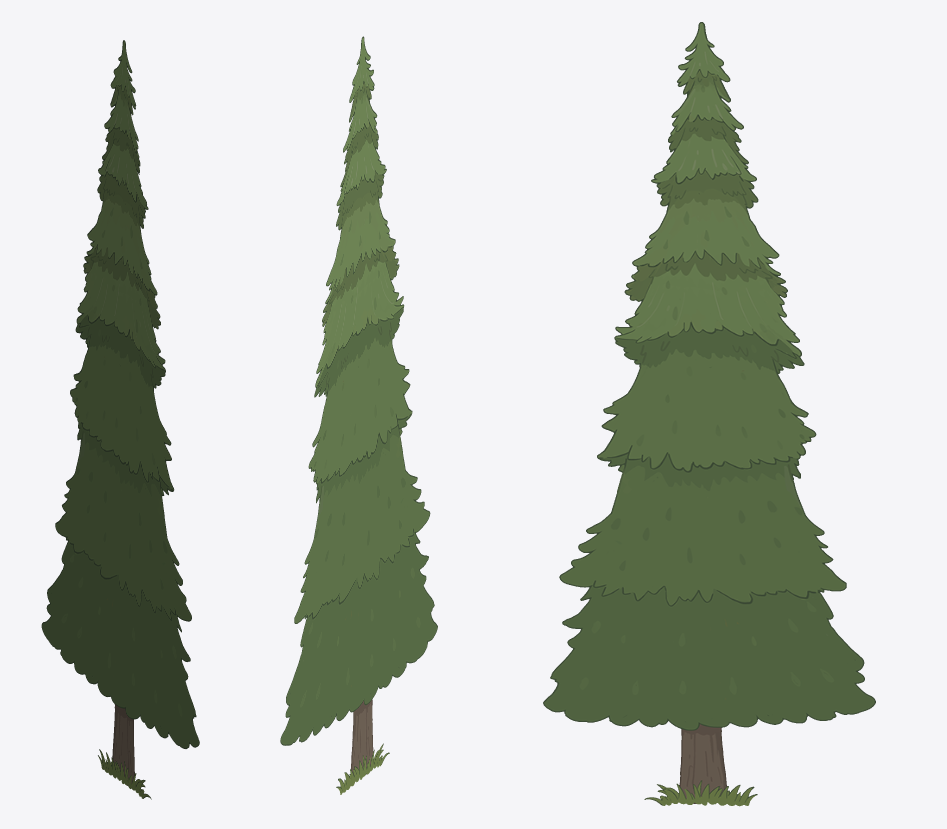
Rendered from Mesh_Common_Tree_b.fbx.
3 views of the same model, side by side, from view 1: azimuth 30°, elevation 25°; view 2: azimuth 150°, elevation 25°; view 3: azimuth 270°, elevation 25° (orthographic). The views are drawn at different scales.
Visible parts, largest first — view 1: Mesh_Common_Tree_b; view 2: Mesh_Common_Tree_b; view 3: Mesh_Common_Tree_b.
Boxes of the visible parts, x1,y1,x2,y2 form: Mesh_Common_Tree_b: [41, 40, 199, 799]; Mesh_Common_Tree_b: [280, 36, 437, 794]; Mesh_Common_Tree_b: [543, 22, 875, 806].
Size of the model in its own units: 3.37e-14 by 100 by 50.
